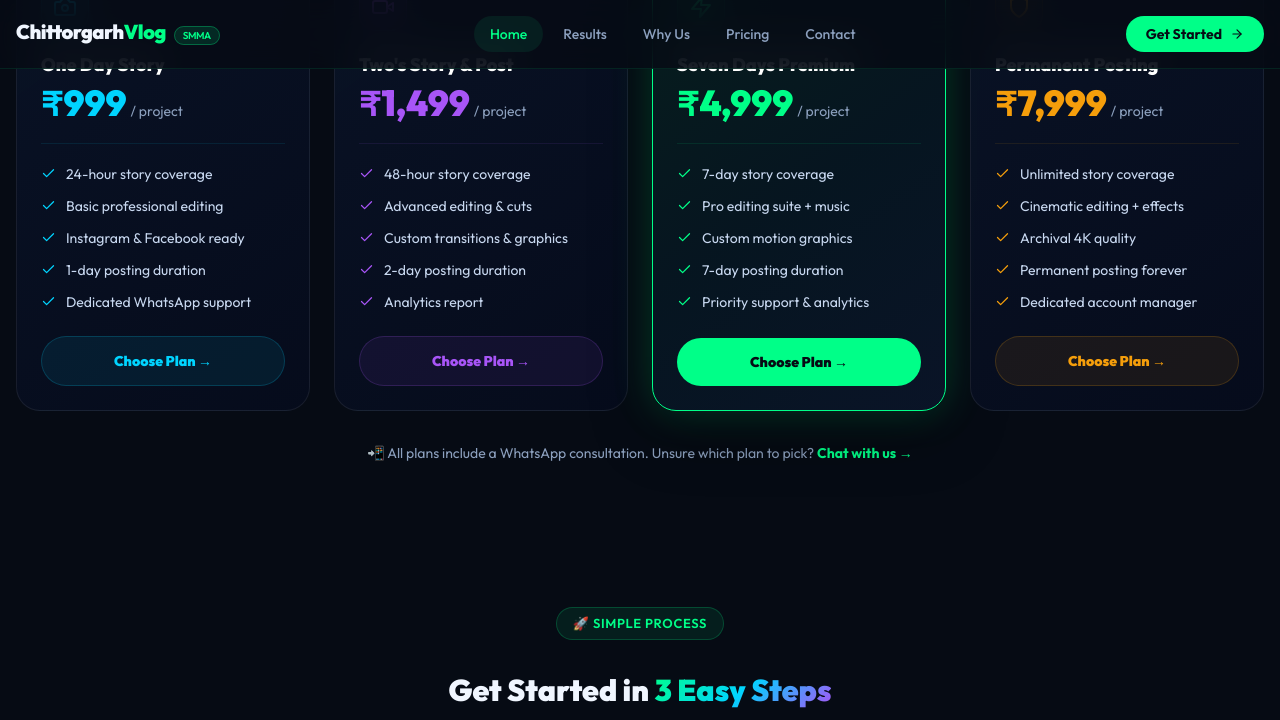
Test case: App Component › WhatsApp button appears in modal
This screenshot has width=1280, height=720.
(page scrolled)
Click the button "Choose Plan →" below "Dedicated WhatsApp support": click(163, 361) [41, 336, 285, 386]
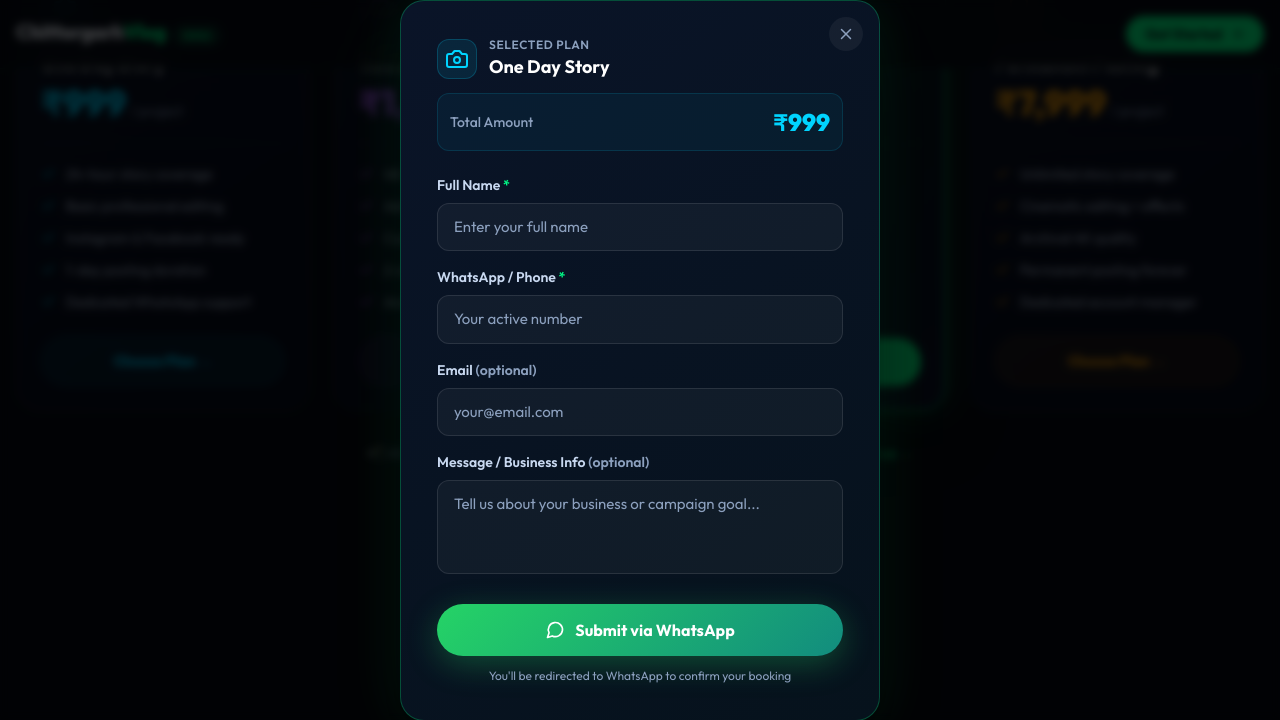
Now the element with class "modal-overlay" is shown
Now the button "Submit via WhatsApp" is shown, box [437, 604, 843, 656]
